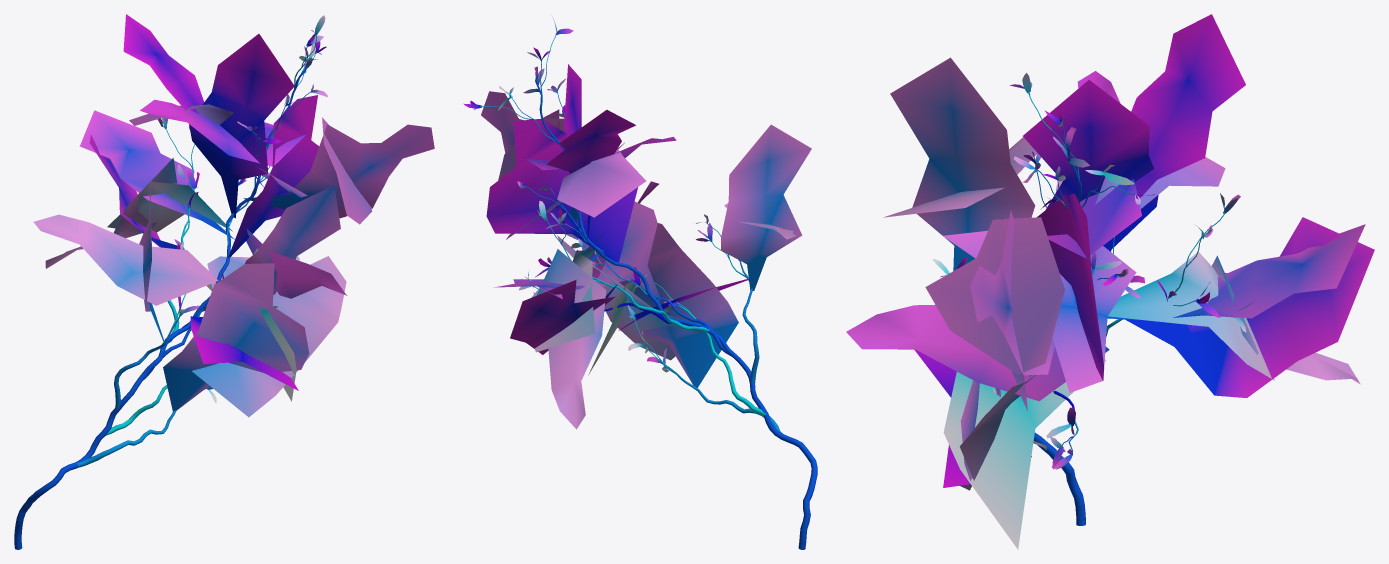
Rendered from Downy_Willow_wknlfiuqx_Mid_wknlfiuqx_VarH_LOD2.fbx.
3 renders of one model, left to right at view 1: azimuth 30°, elevation 25°; view 2: azimuth 150°, elevation 25°; view 3: azimuth 270°, elevation 25°, orthographic. The views are drawn at different scales.
Visible parts, largest first — view 1: _hprg_VarH_LOD3; view 2: _hprg_VarH_LOD3; view 3: _hprg_VarH_LOD3.
Boxes of the visible parts, x1,y1,x2,y2 form: _hprg_VarH_LOD3: (14,14,434,549); _hprg_VarH_LOD3: (463,16,817,549); _hprg_VarH_LOD3: (846,14,1374,549).
Size of the model in its own units: 175 by 210 by 158.
